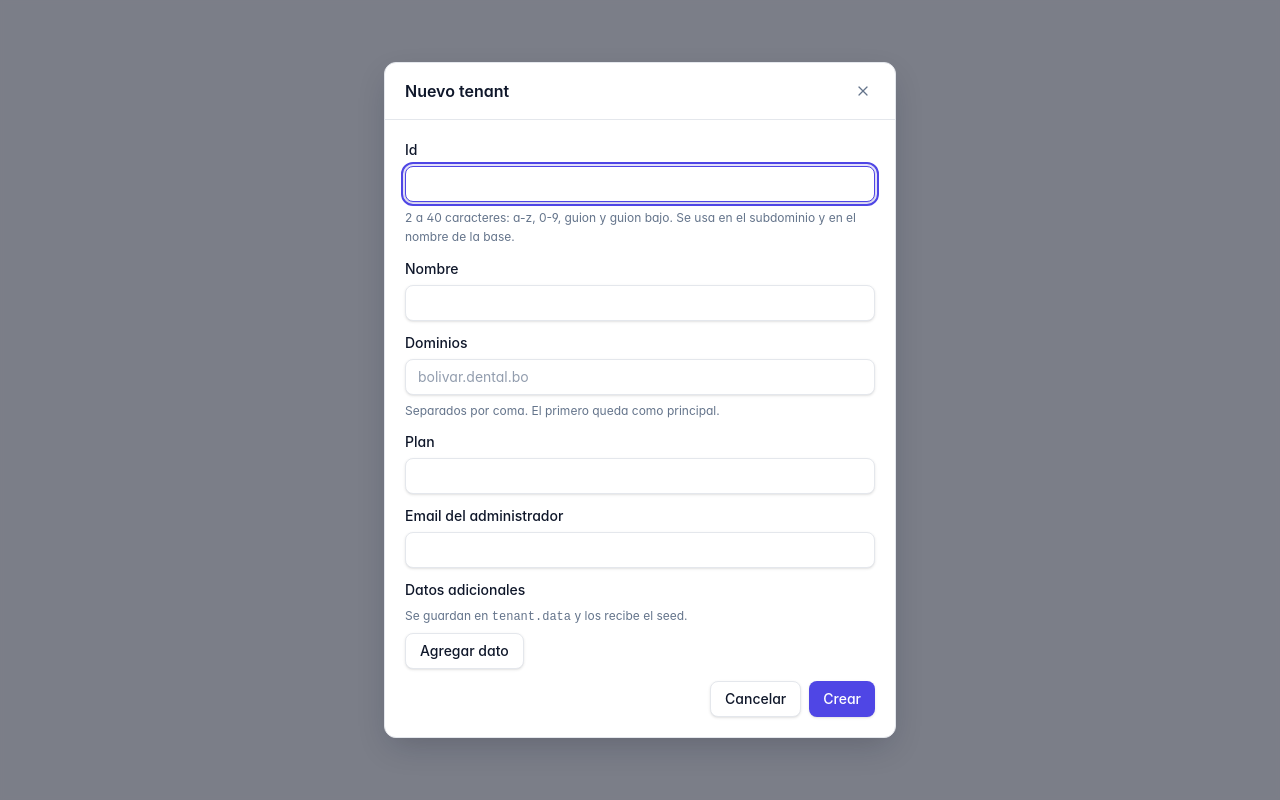
Test case: pages › asks for the fields the app declares when creating a tenant
Expected: the field with placeholder "bolivar.dental.bo" is shown, [405,359,875,395]
In the field labelled "Id": (640, 184) [405,166,875,202], type "sucre"
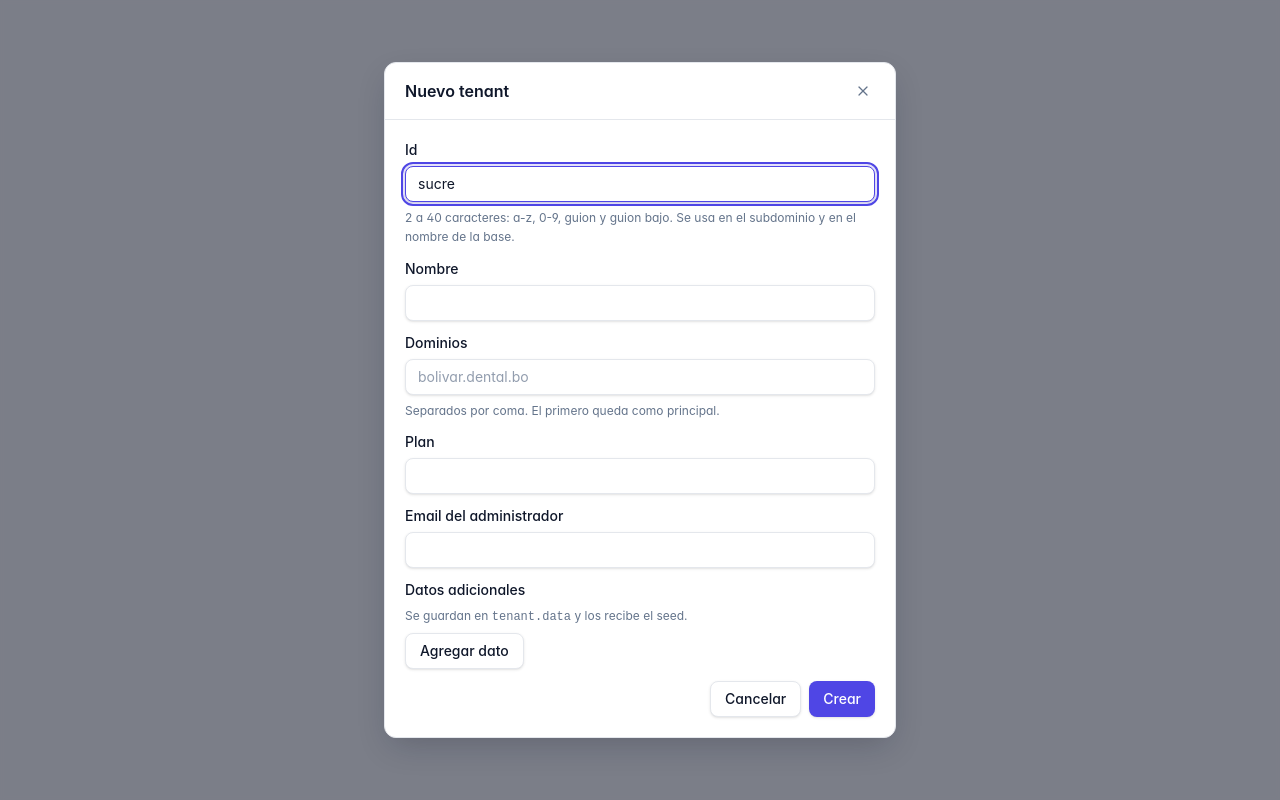
In the field labelled "Email del administrador": (640, 550) [405,532,875,568], type "jefe@sucre.bo"
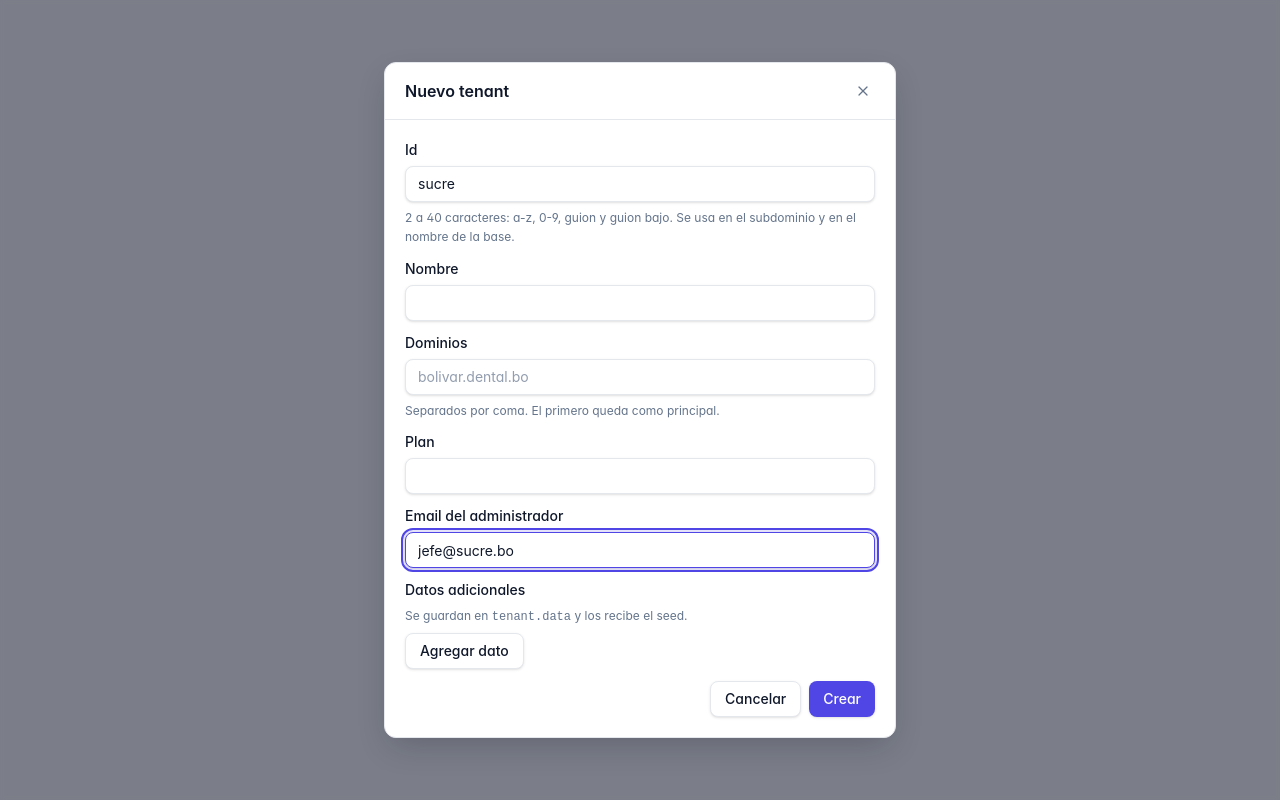
Click the button "Agregar dato": (464, 651) [405,633,524,669]
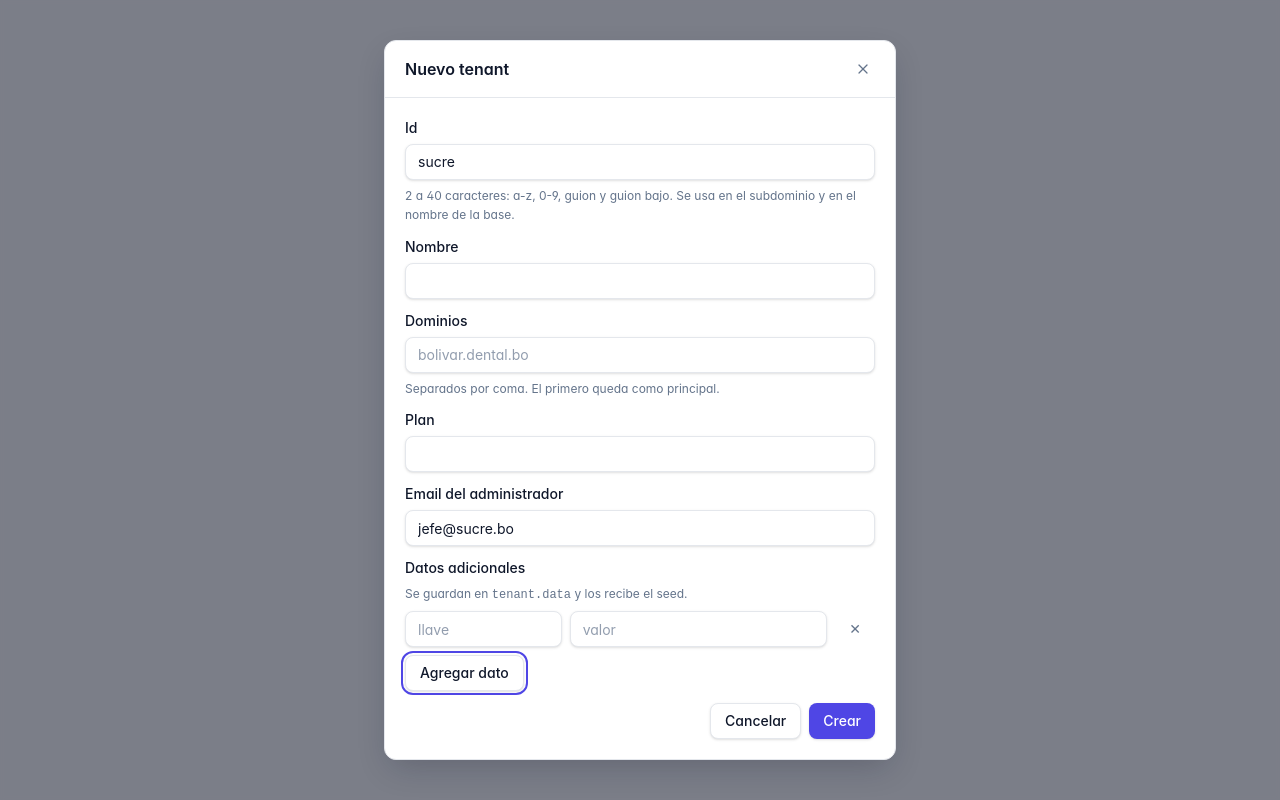
In the field named "Llave 1": (483, 629) [405,611,562,647], type "telefono"
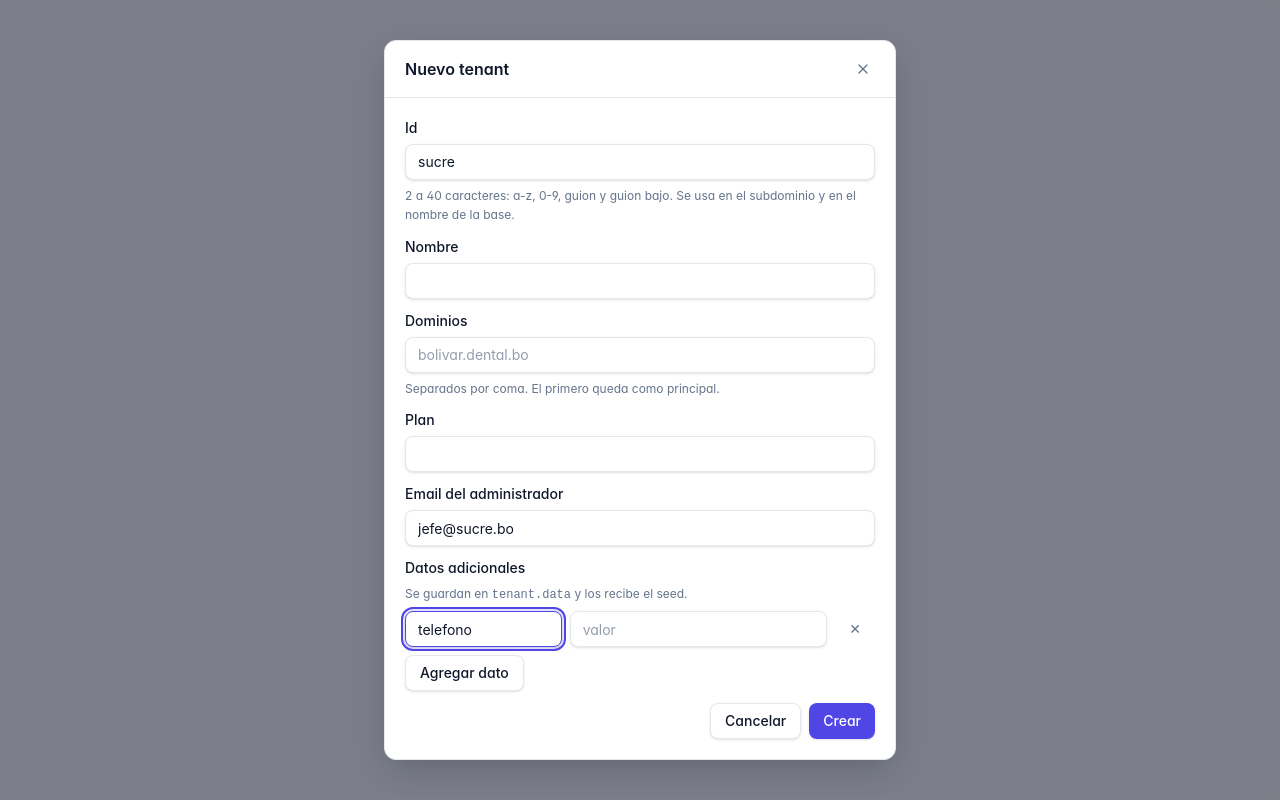
In the field named "Valor 1": (698, 629) [570,611,827,647], type "4-123"
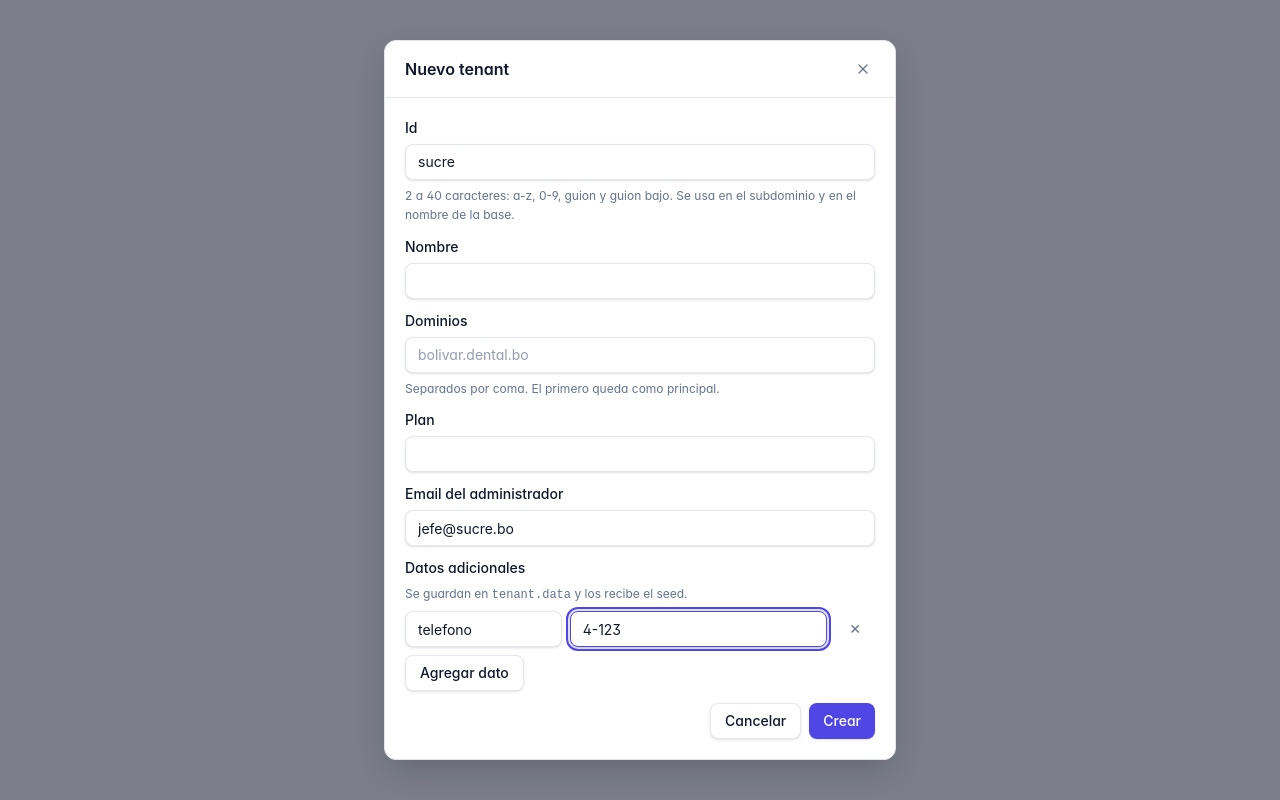
Click the button "Crear": (842, 721) [809,703,875,739]
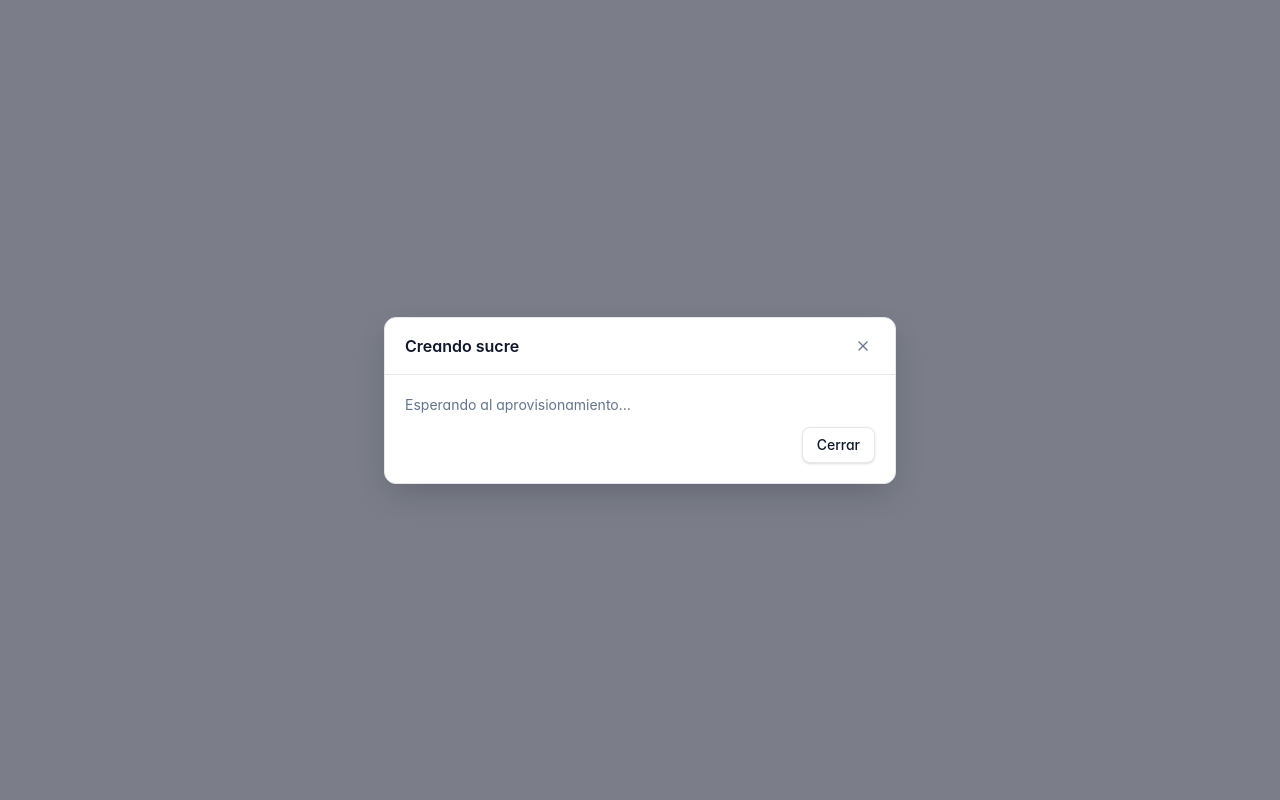
Expected: the heading "Creando sucre" is shown, [405,334,519,358]
